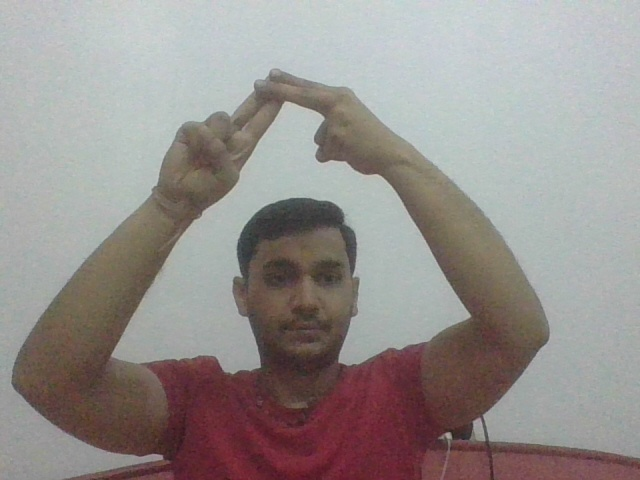F: (156, 67, 396, 195)
